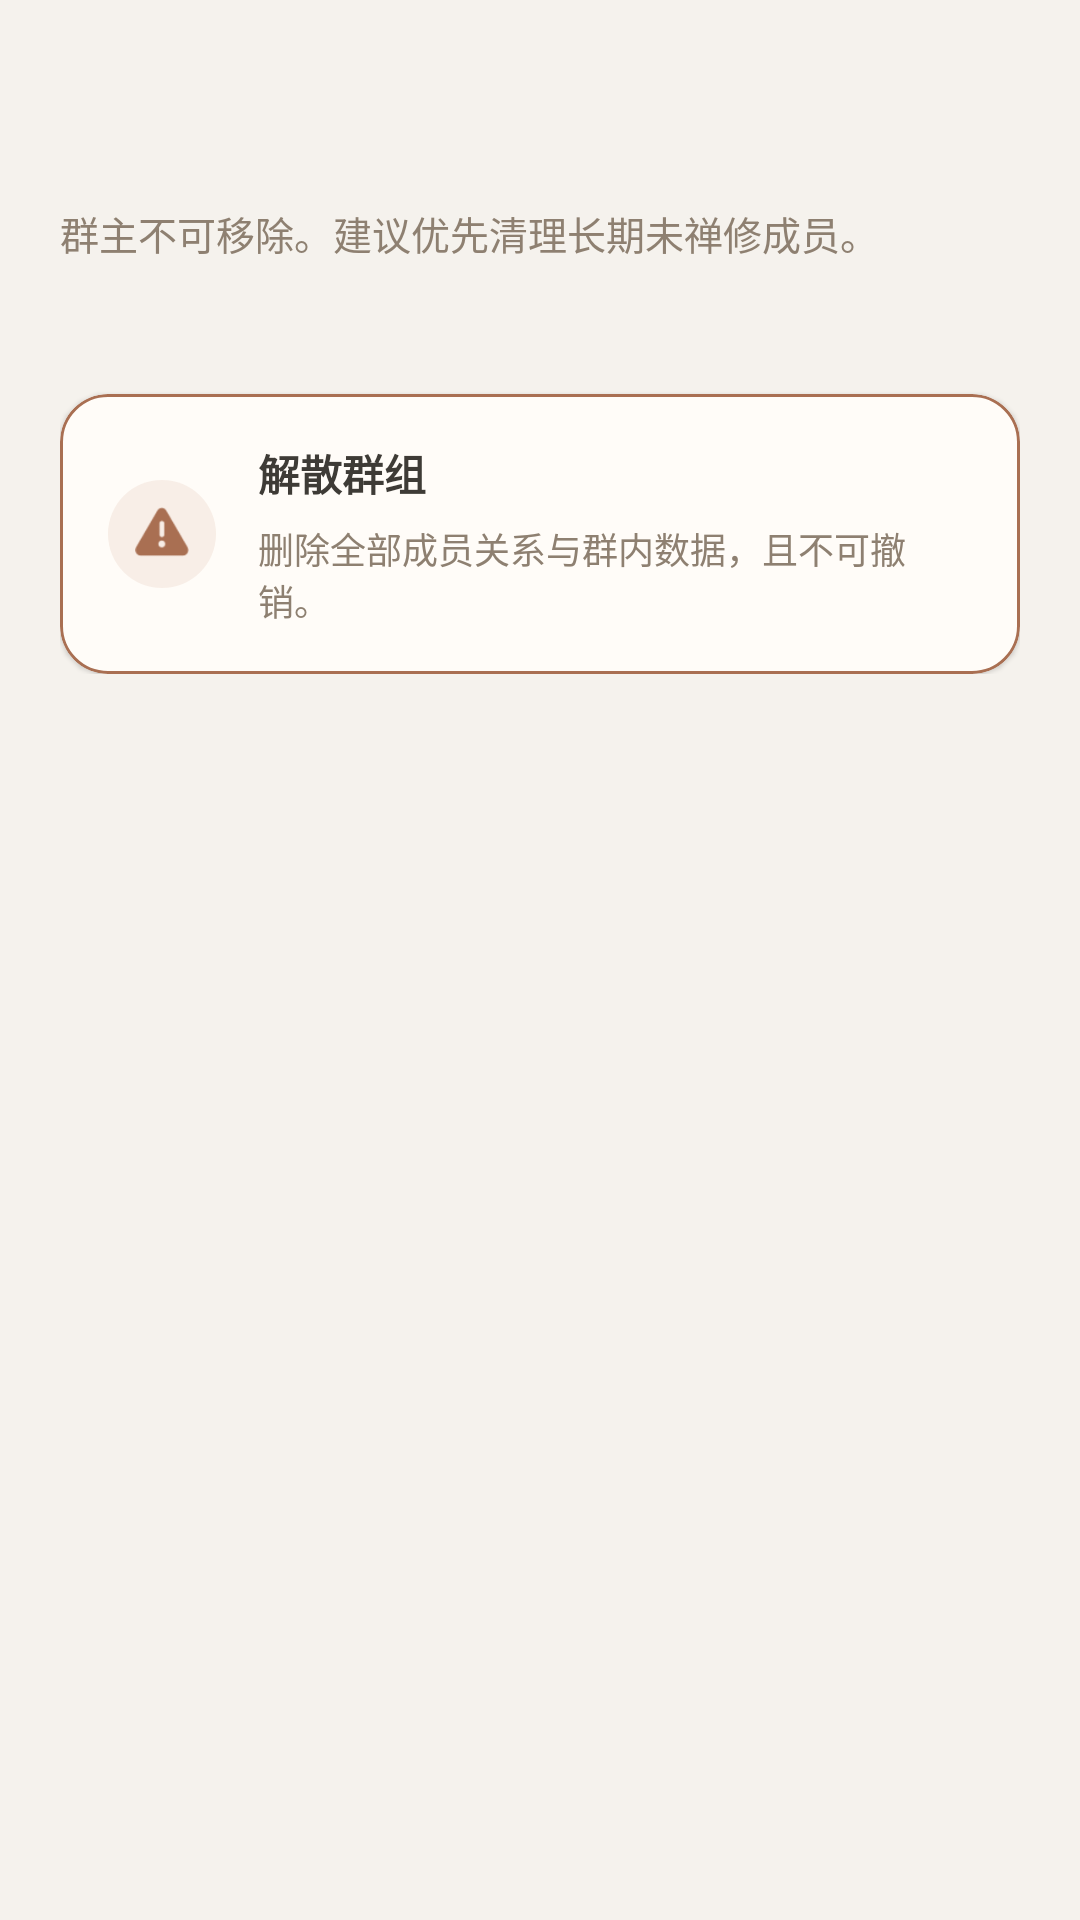

Locate icon controls on the screen. Image size 1080 × 1920, boxes as (x1, y1, x2, y2).
alert: (135, 507, 189, 556)
